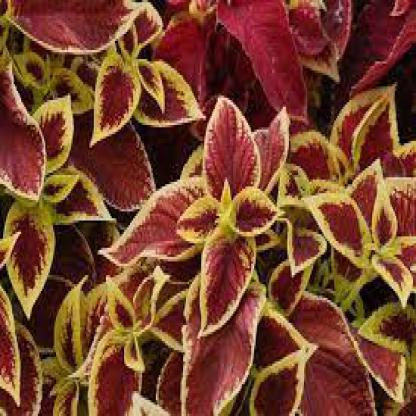Bunga Coleus: (8, 17, 399, 396)
